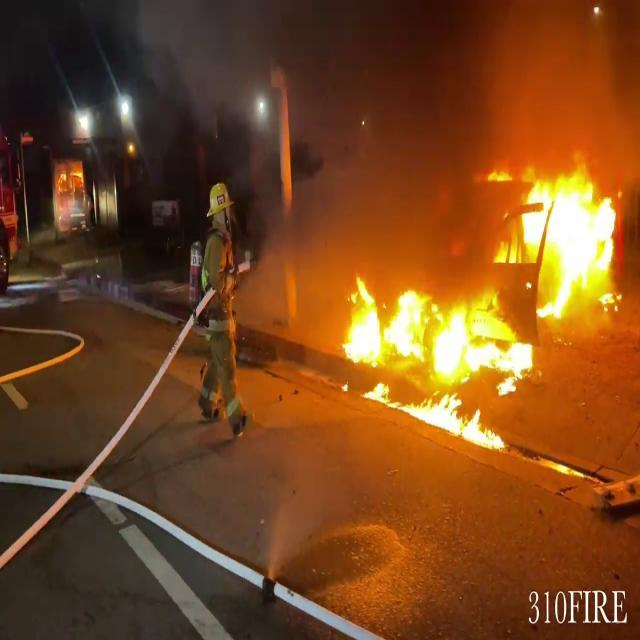Fire: (328, 274, 541, 448), (502, 165, 628, 318)
Smoke: (290, 0, 640, 257)
